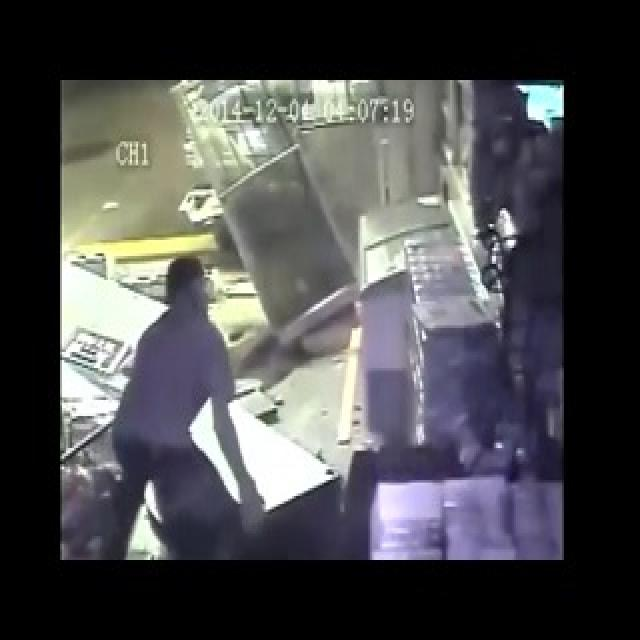thief: (137, 228, 235, 350)
